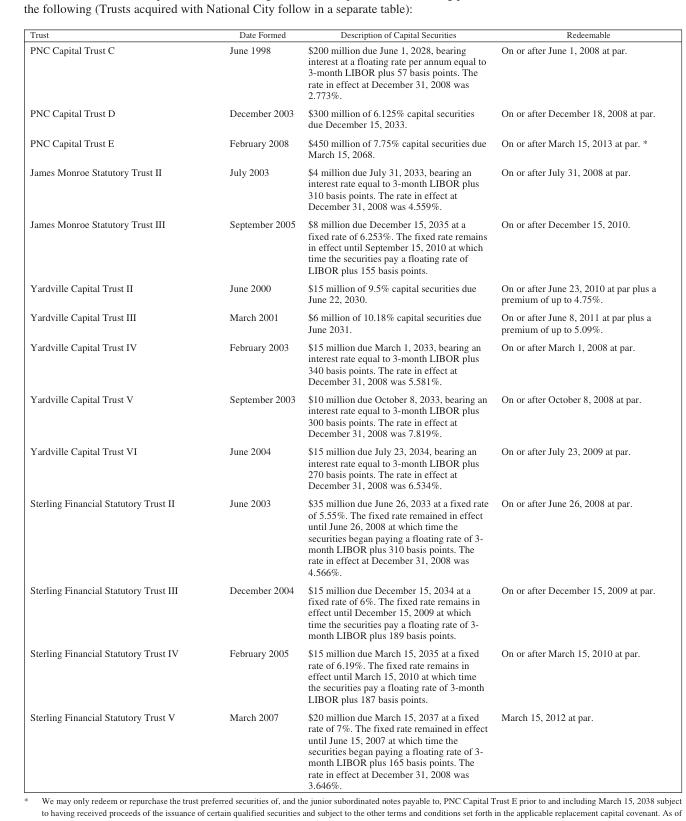table: (29, 29, 655, 790)
table column: (300, 29, 494, 790), (29, 29, 203, 790), (494, 29, 655, 790), (203, 29, 300, 790)
table column header: (29, 29, 655, 41)
table row: (29, 493, 655, 580), (29, 707, 655, 790), (29, 214, 655, 278), (29, 643, 655, 707), (29, 580, 655, 643), (29, 41, 655, 103), (29, 162, 655, 214), (29, 337, 655, 389), (29, 389, 655, 441), (29, 441, 655, 493), (29, 103, 655, 133), (29, 307, 655, 337), (29, 133, 655, 162), (29, 278, 655, 307), (29, 29, 655, 41)
